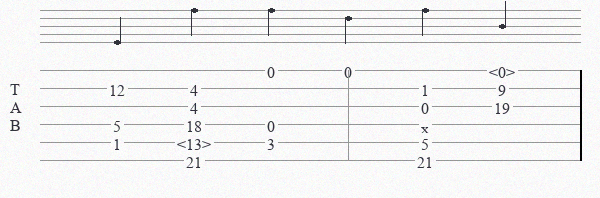0: (267, 117, 279, 132), (267, 63, 279, 78), (344, 63, 356, 78), (421, 99, 433, 114)
1: (113, 135, 125, 150), (421, 81, 433, 96)
12: (109, 81, 129, 96)
18: (186, 117, 206, 132)
19: (494, 99, 514, 114)
21: (186, 153, 206, 168), (417, 153, 437, 168)
3: (267, 135, 279, 150)
4: (190, 99, 202, 114), (190, 81, 202, 96)
5: (113, 117, 125, 132), (421, 135, 433, 150)
9: (498, 81, 510, 96)
harmonic: (177, 135, 215, 150), (489, 63, 519, 78)
x: (421, 119, 433, 130)
